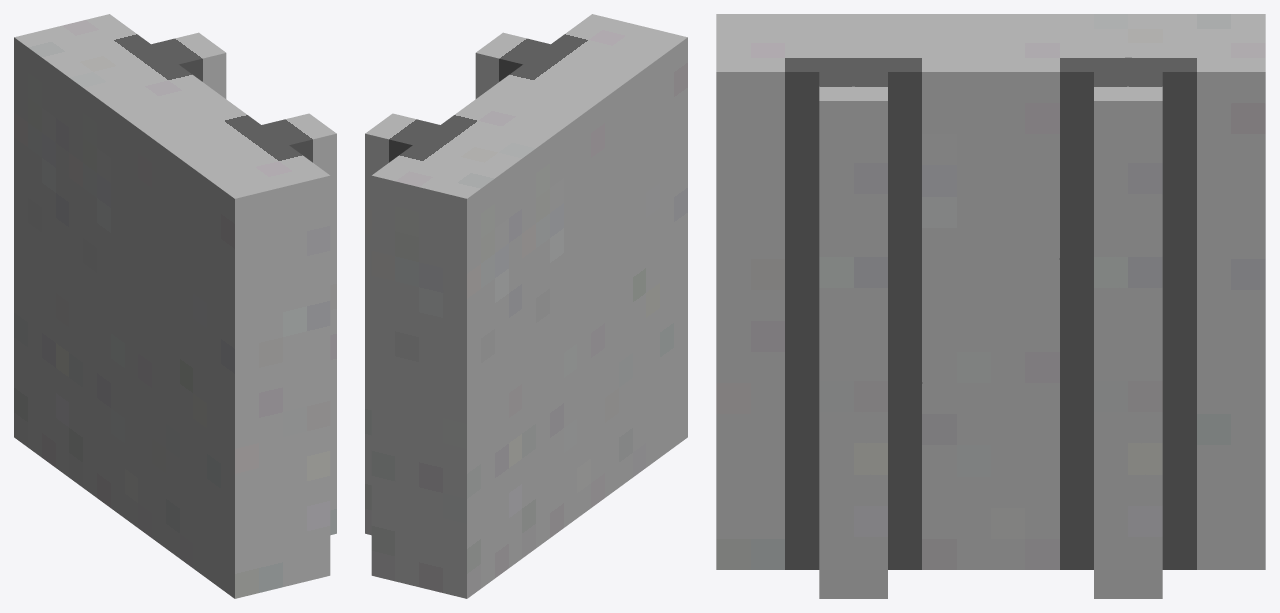
File: elevator_rails.obj
3 views of the same model, side by side, from view 1: azimuth 30°, elevation 25°; view 2: azimuth 150°, elevation 25°; view 3: azimuth 270°, elevation 25° (orthographic). The views are drawn at different scales.
Size of the model in its own units: 0.375 by 1 by 1.
